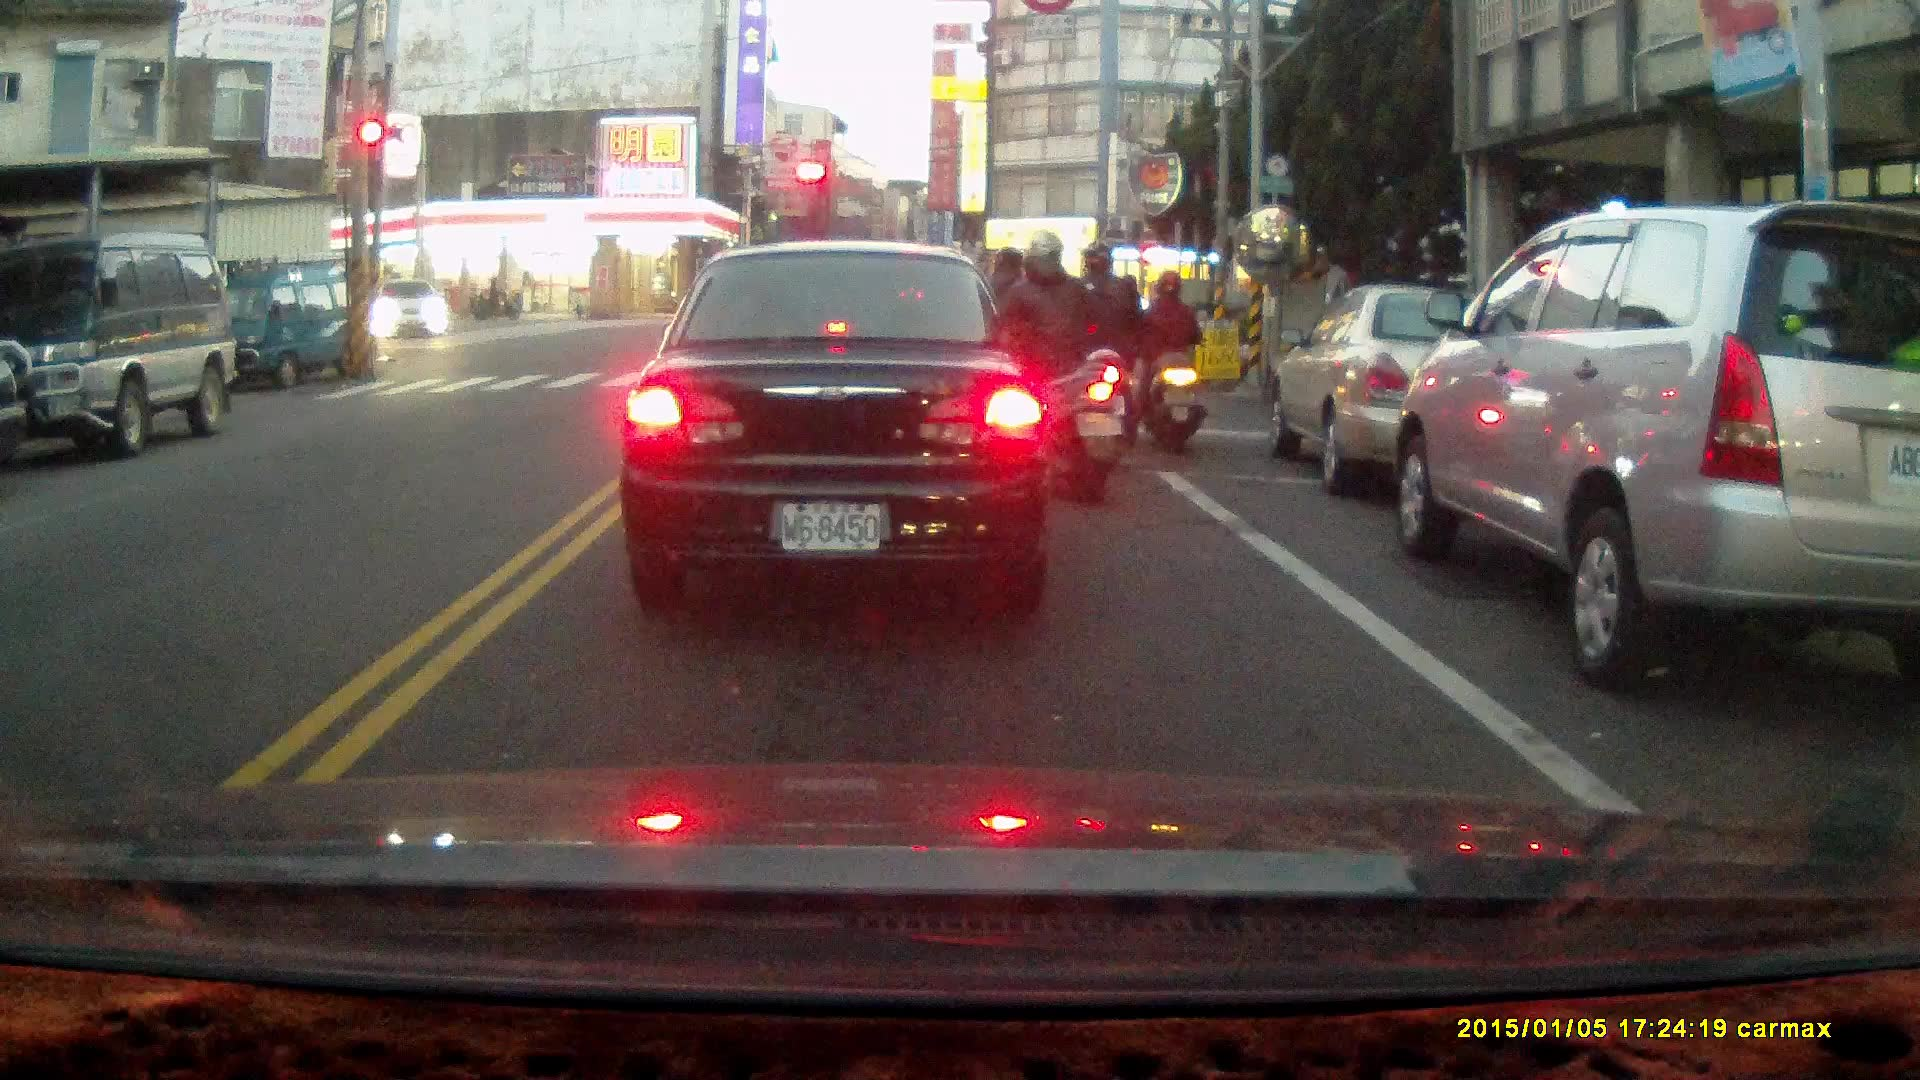rider: (979, 230, 1121, 507), (1048, 242, 1141, 468), (960, 242, 1055, 430), (1135, 270, 1205, 451), (464, 278, 507, 317)
vehicle: (1391, 209, 1914, 703), (617, 243, 1061, 606), (1266, 284, 1569, 492), (1, 234, 239, 458), (191, 258, 376, 393), (372, 277, 451, 343)
